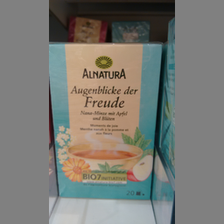tea: (50, 43, 163, 199)
